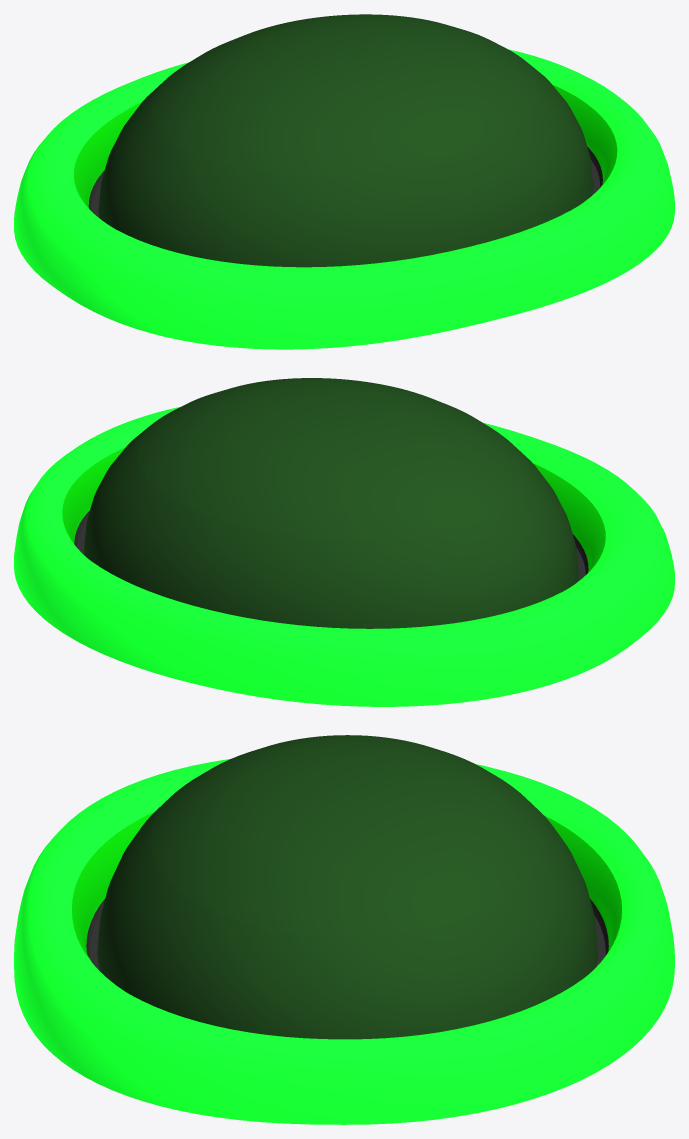
Rendered from dome_green.glb.
3 views of the same model, one above another, from view 1: azimuth 30°, elevation 25°; view 2: azimuth 150°, elevation 25°; view 3: azimuth 270°, elevation 25° (orthographic). The views are drawn at different scales.
Parts seen in each view (by area): view 1: dome_green; view 2: dome_green; view 3: dome_green.
Part boxes in pixels (<box>): dome_green: <box>14,14,674,349</box>; dome_green: <box>14,378,674,706</box>; dome_green: <box>14,735,674,1124</box>.
Bounding box in the file's own units: 24 × 6.6 × 21.
